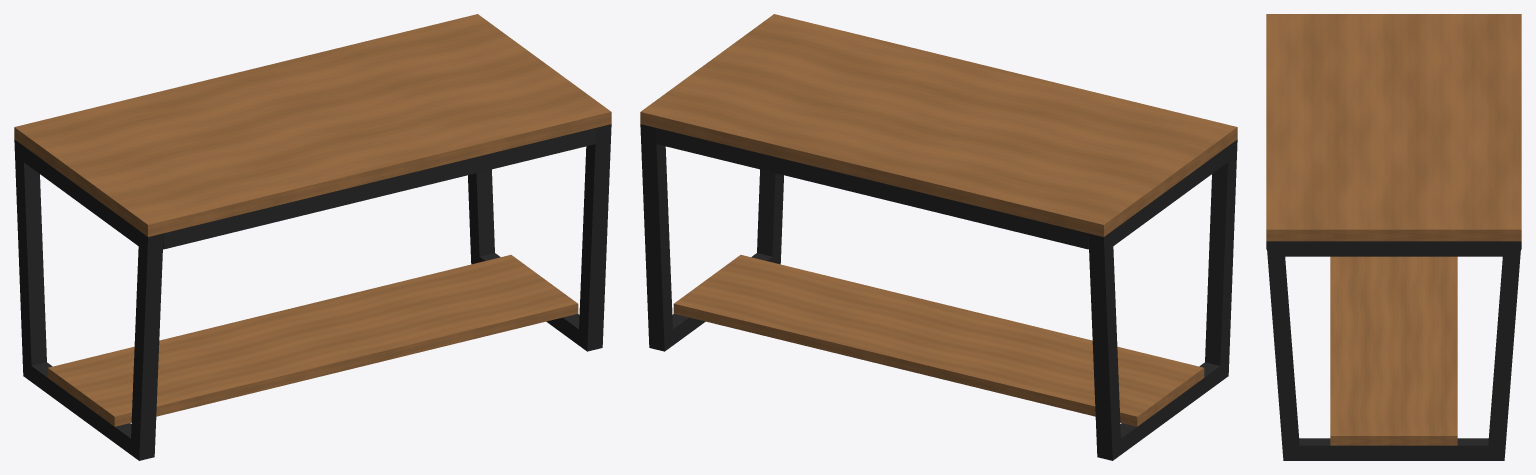
Rendered from mesa-living-nord-estante-roble-negro-4cm.glb.
3 views of the same model, side by side, from view 1: azimuth 30°, elevation 25°; view 2: azimuth 150°, elevation 25°; view 3: azimuth 270°, elevation 25° (orthographic). The views are drawn at different scales.
Parts seen in each view (by area): view 1: Tapa de madera maciza 120 x 60 x 3 cm, Estante inferior de madera de 120 cm (proporción aproximada), Patas inclinadas con cortes a inglete, Larguero longitudinal superior de hierro 4 x 4 mm, Travesaño inferior del trapecio, perfil 4 cm (×2), Travesaño superior del trapecio, perfil 4 cm; view 2: Tapa de madera maciza 120 x 60 x 3 cm, Estante inferior de madera de 120 cm (proporción aproximada), Patas inclinadas con cortes a inglete, Larguero longitudinal superior de hierro 4 x 4 mm, Travesaño inferior del trapecio, perfil 4 cm (×2), Travesaño superior del trapecio, perfil 4 cm; view 3: Tapa de madera maciza 120 x 60 x 3 cm, Estante inferior de madera de 120 cm (proporción aproximada), Patas inclinadas con cortes a inglete, Travesaño superior del trapecio, perfil 4 cm, Travesaño inferior del trapecio, perfil 4 cm.
Boxes of the visible parts, x1,y1,x2,y2 form: Tapa de madera maciza 120 x 60 x 3 cm: (14,14,611,236); Estante inferior de madera de 120 cm (proporción aproximada): (47,255,578,426); Patas inclinadas con cortes a inglete: (14,124,611,460); Larguero longitudinal superior de hierro 4 x 4 mm: (163,128,596,249); Travesaño inferior del trapecio, perfil 4 cm (×2): (31,253,582,453); Travesaño superior del trapecio, perfil 4 cm: (23,146,142,246); Tapa de madera maciza 120 x 60 x 3 cm: (640,14,1237,236); Estante inferior de madera de 120 cm (proporción aproximada): (673,255,1204,426); Patas inclinadas con cortes a inglete: (640,124,1237,460); Larguero longitudinal superior de hierro 4 x 4 mm: (655,128,1088,249); Travesaño inferior del trapecio, perfil 4 cm (×2): (669,253,1224,453); Travesaño superior del trapecio, perfil 4 cm: (1108,146,1228,249); Tapa de madera maciza 120 x 60 x 3 cm: (1266,14,1521,241); Estante inferior de madera de 120 cm (proporción aproximada): (1330,256,1457,445); Patas inclinadas con cortes a inglete: (1266,241,1521,460); Travesaño superior del trapecio, perfil 4 cm: (1275,241,1512,256); Travesaño inferior del trapecio, perfil 4 cm: (1292,438,1495,460).
Bounding box in the file's own units: 1.2 × 0.6 × 0.6.
Materials: 2 (1 with a texture image).
